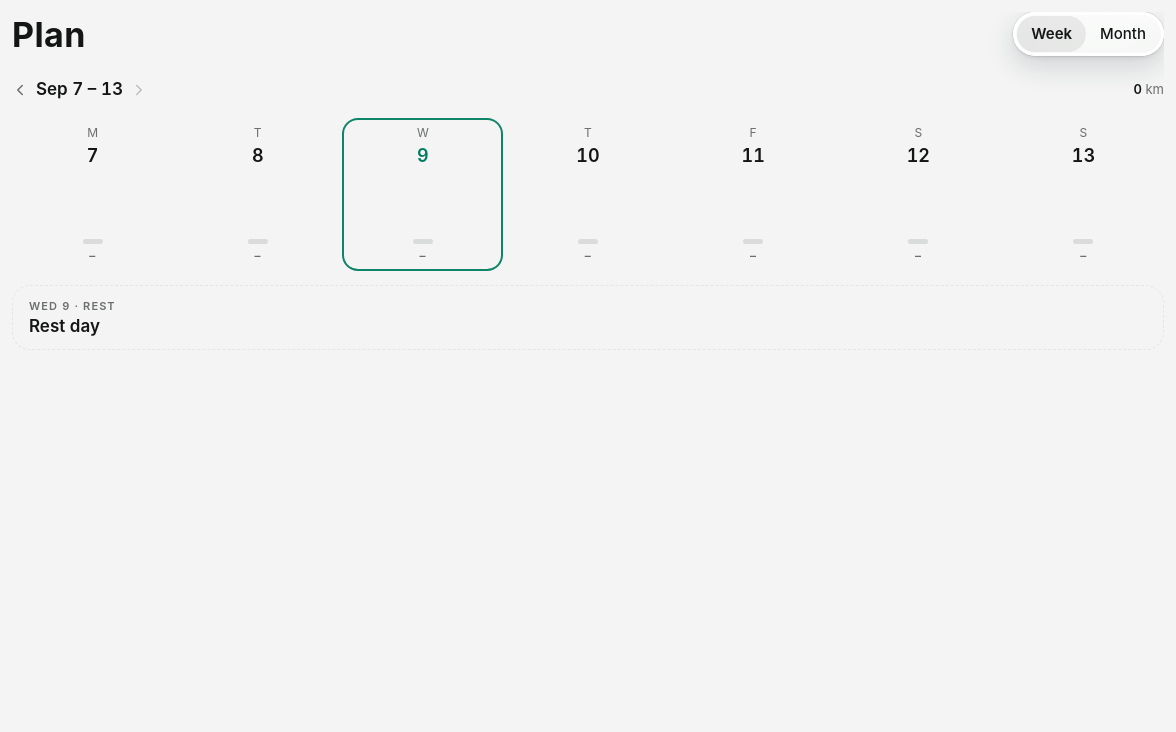
Test: PlanClient week/month switching › switches to the month view and back, keeping the view in the URL
Click the tab "Month" at {"x": 1123, "y": 34}, box [1086, 16, 1160, 52]
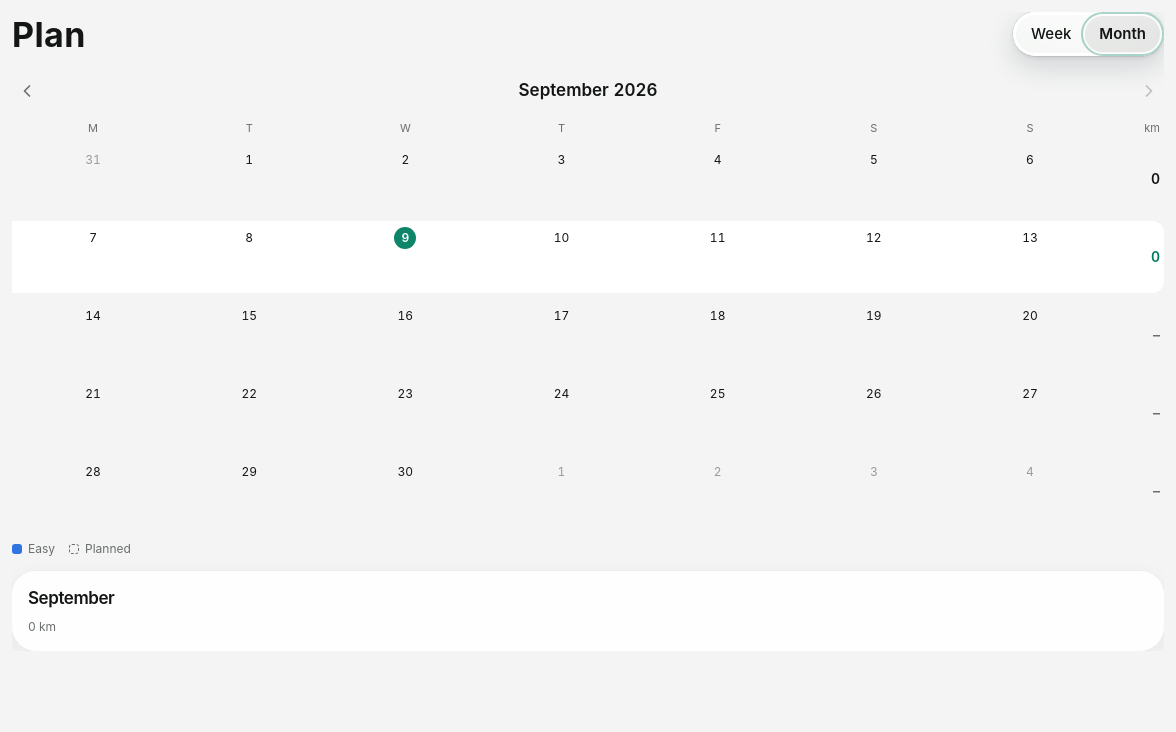
expect the element with test id "day-selector" is gone: met
Click the tab "Week" at {"x": 1051, "y": 34}, box [1017, 16, 1085, 52]
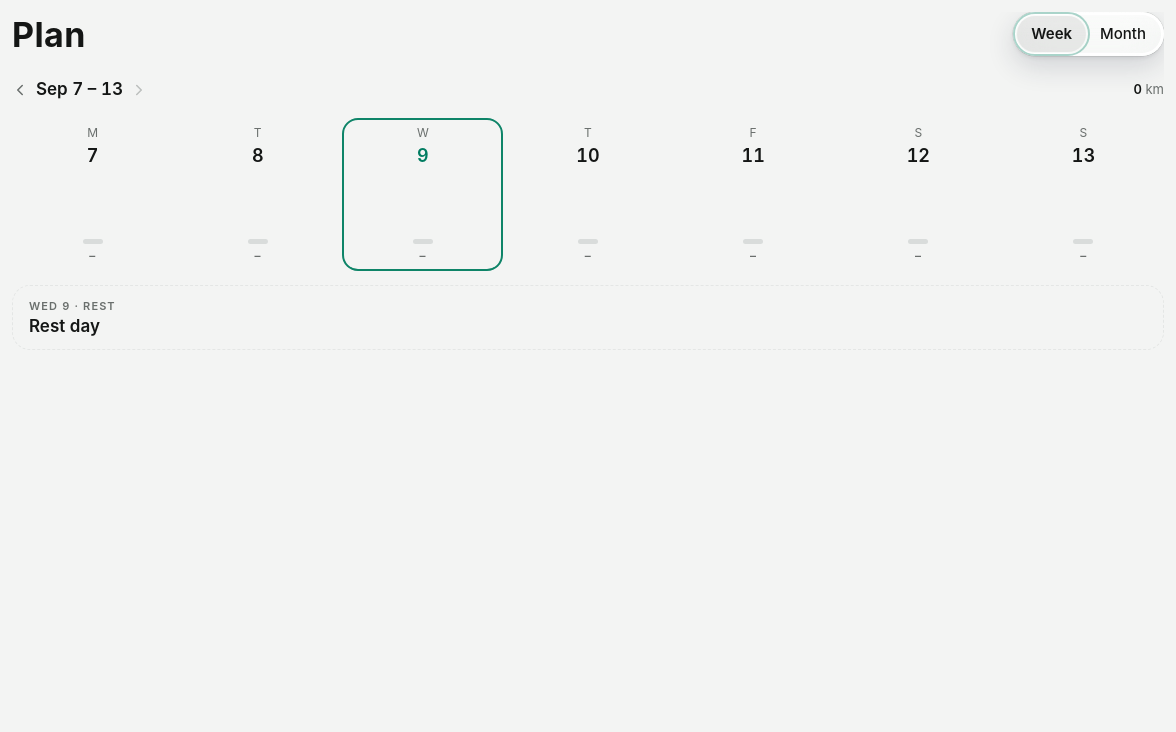
expect the element with test id "day-selector" is shown: met, box [12, 118, 1164, 270]
